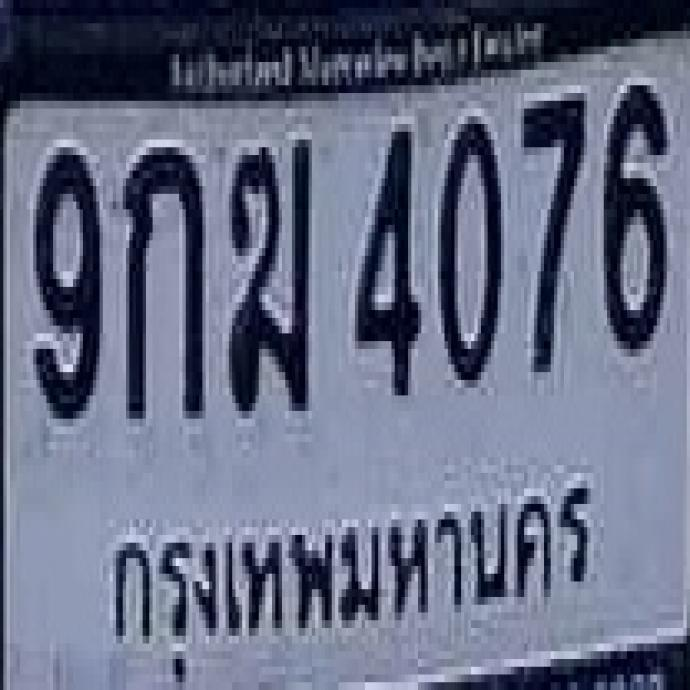0: (436, 111, 499, 380)
4: (353, 119, 416, 391)
6: (601, 79, 664, 347)
7: (520, 88, 583, 366)
9: (31, 142, 98, 411)
A01: (121, 141, 199, 415)
A06: (226, 135, 308, 405)
BKK: (97, 468, 601, 673)
